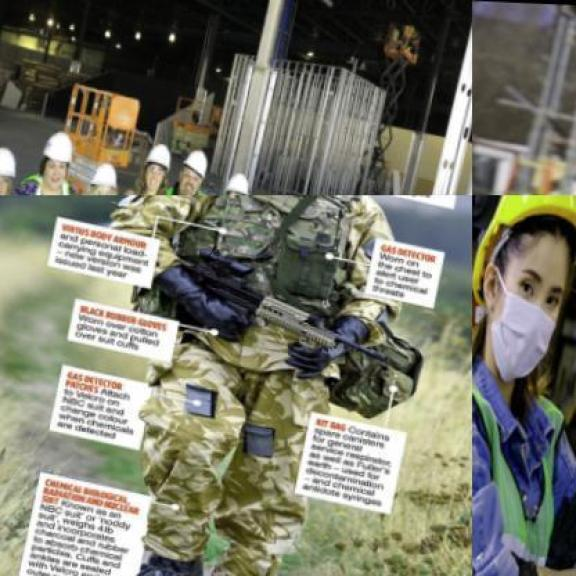safety_vest: (175, 195, 371, 339), (8, 167, 86, 194)
